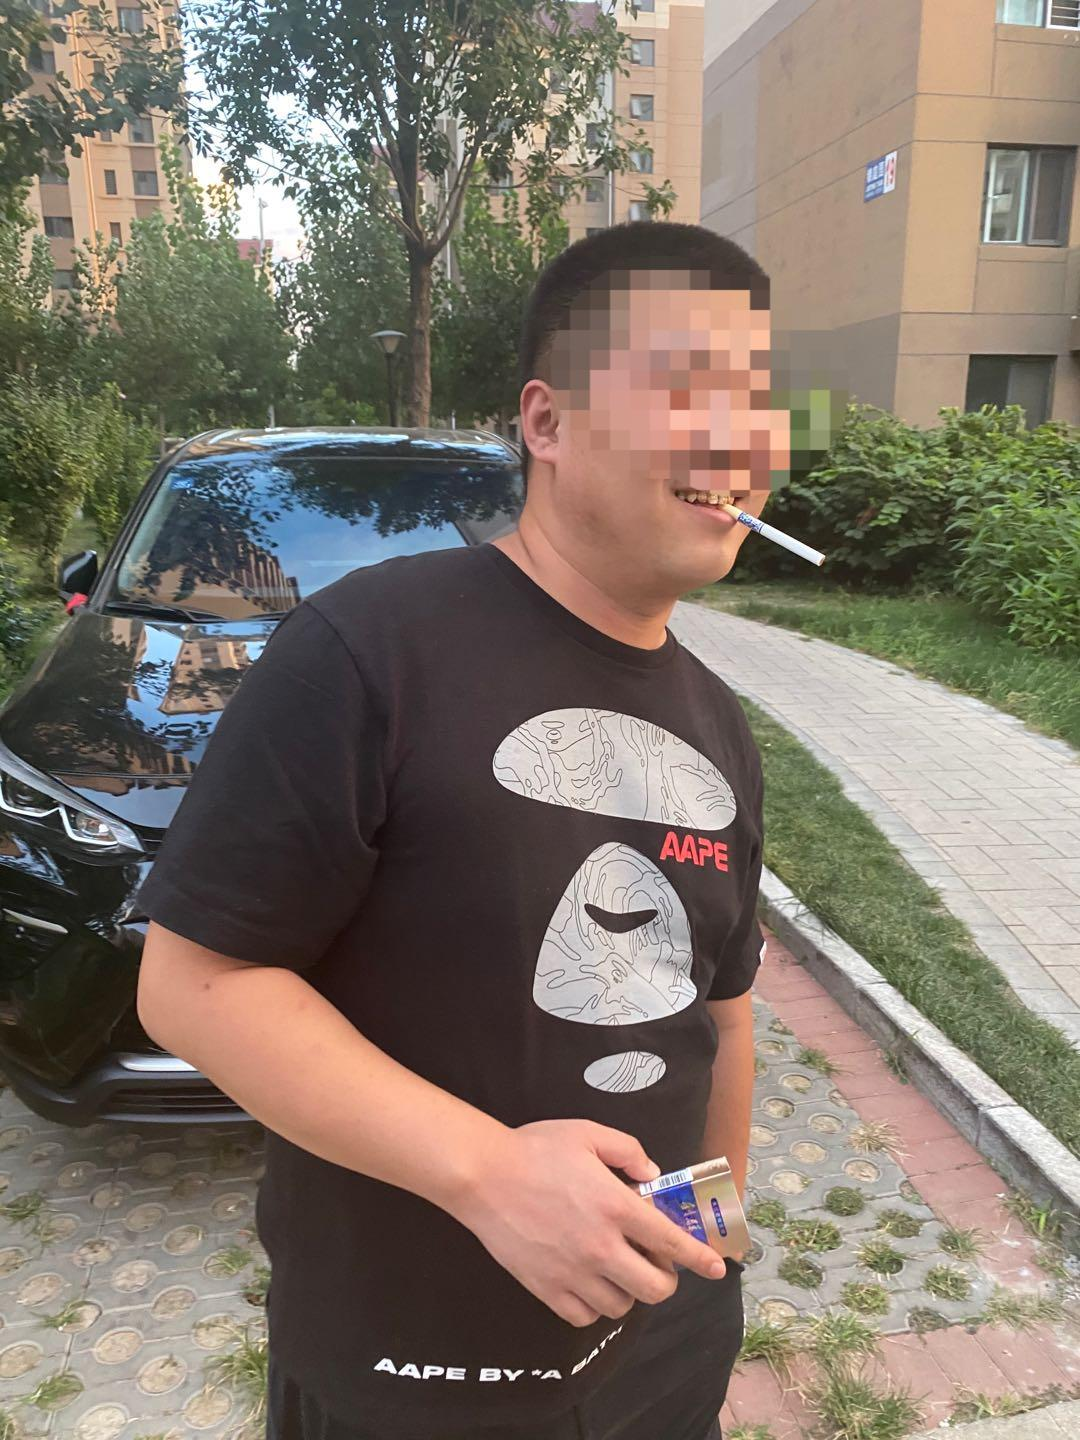smoke: (725, 507, 832, 575)
